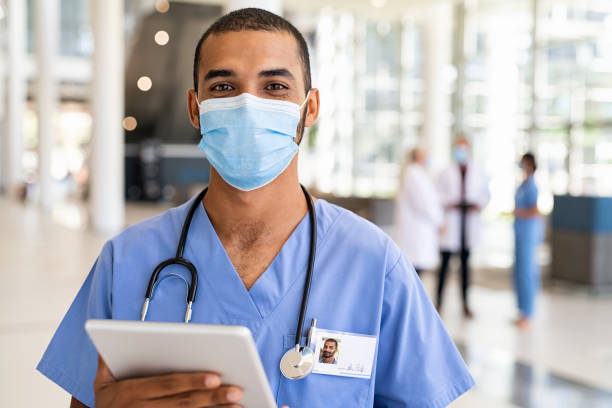with mask: (191, 16, 318, 198), (450, 135, 479, 170)
